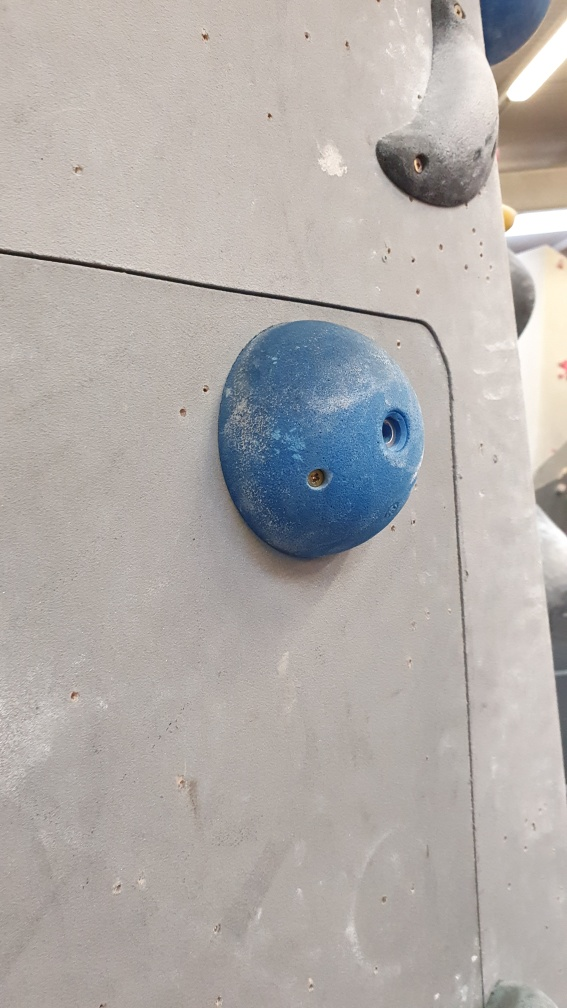Sloper: (215, 315, 428, 564)
